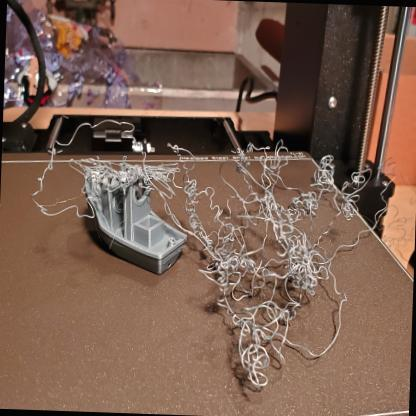fail: (178, 156, 357, 390), (145, 160, 184, 211)
